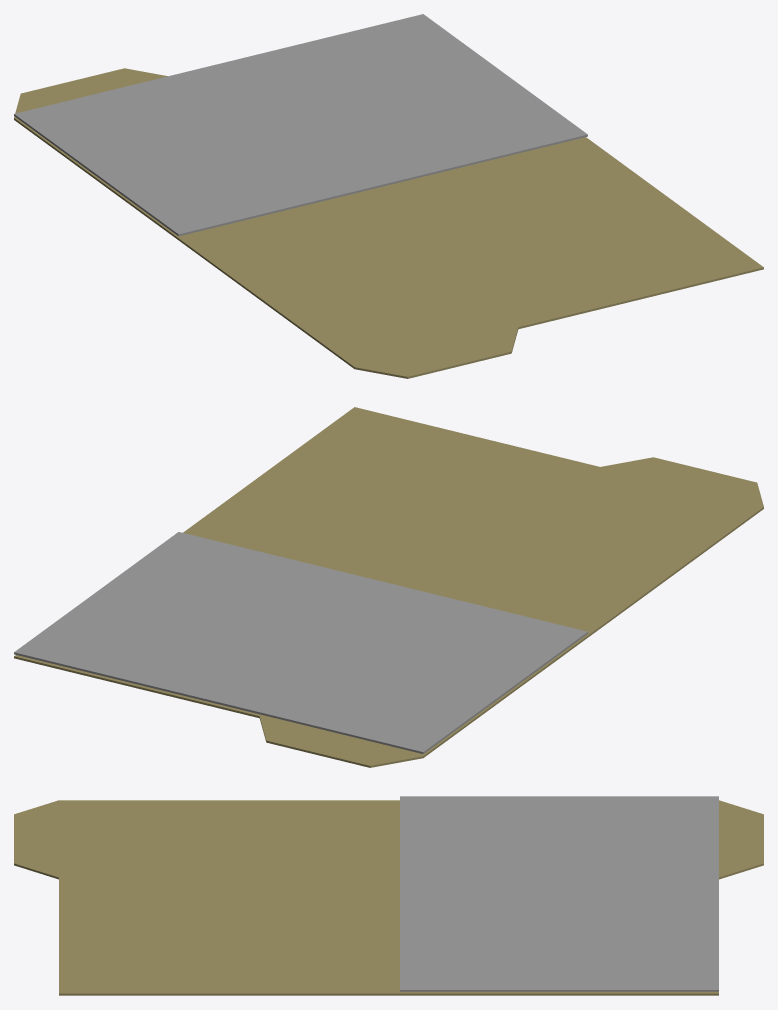
File: infofile_temp.fbx
The picture shows the model from 3 angles, top to bottom: view 1: azimuth 30°, elevation 25°; view 2: azimuth 150°, elevation 25°; view 3: azimuth 270°, elevation 25°; orthographic projection. The views are drawn at different scales.
Parts seen in each view (by area): view 1: polySurface38; view 2: polySurface38; view 3: polySurface38.
Part boxes in pixels (<box>): polySurface38: <box>14,14,763,378</box>; polySurface38: <box>14,407,763,767</box>; polySurface38: <box>14,796,763,995</box>.
Bounding box in the file's own units: 36.53 × 0.5139 × 59.83.
